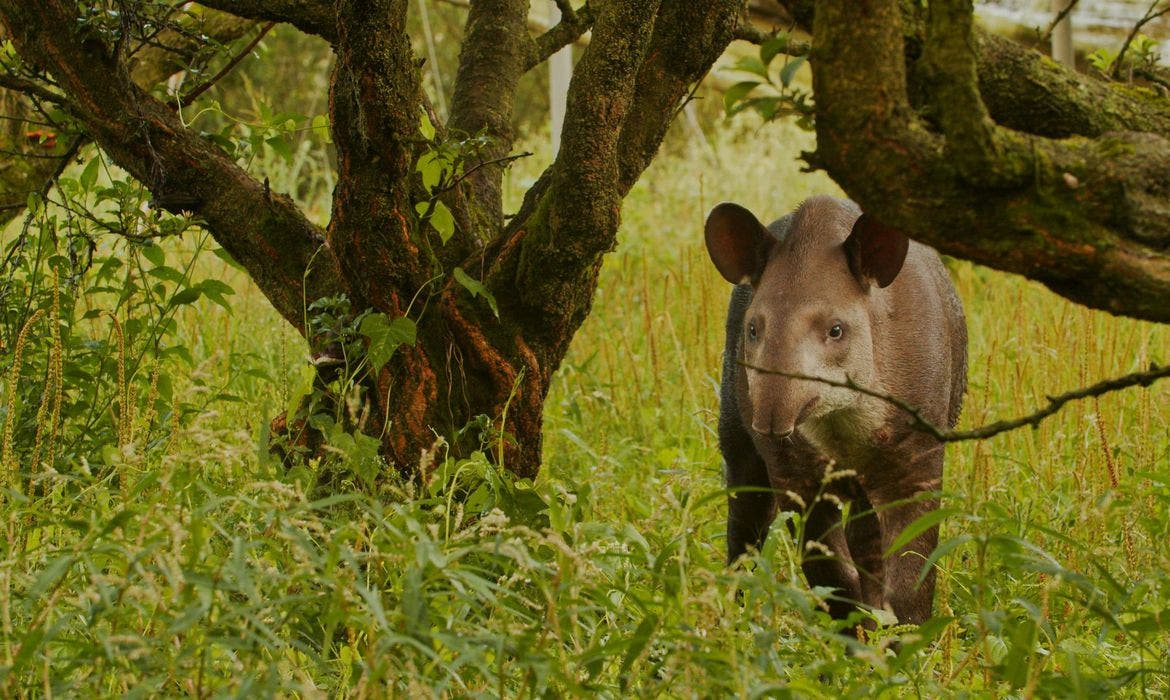Anta: (687, 173, 973, 638)
